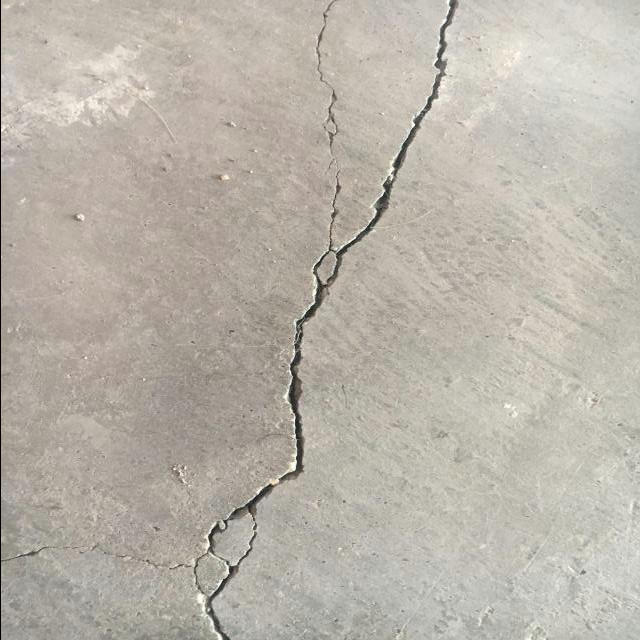SurfaceCrack: (120, 0, 502, 639)
